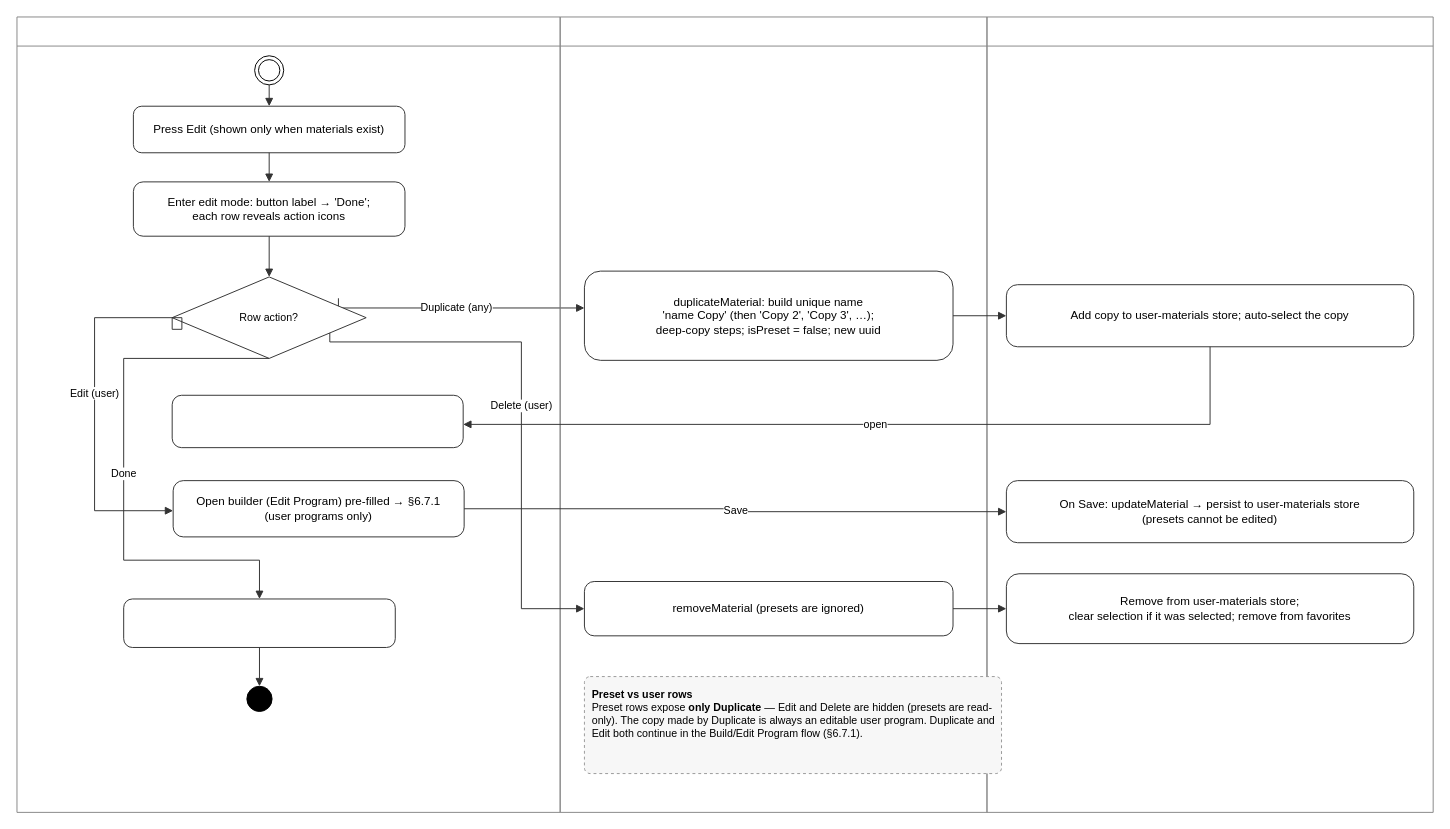
This 1450x829 diagram has some shape labels left out. The shapes that lost their labels are listed below. From the top down, each one's box as (x1, y1, x2, y2) in pixels, then its label:
(16, 16, 560, 812): UI
(171, 394, 463, 448): Open builder (Edit Program) on the copy → §6.7.1
(559, 16, 987, 812): FW
(986, 16, 1433, 812): Storage
(123, 598, 395, 647): Exit edit mode (button label → 'Edit')
